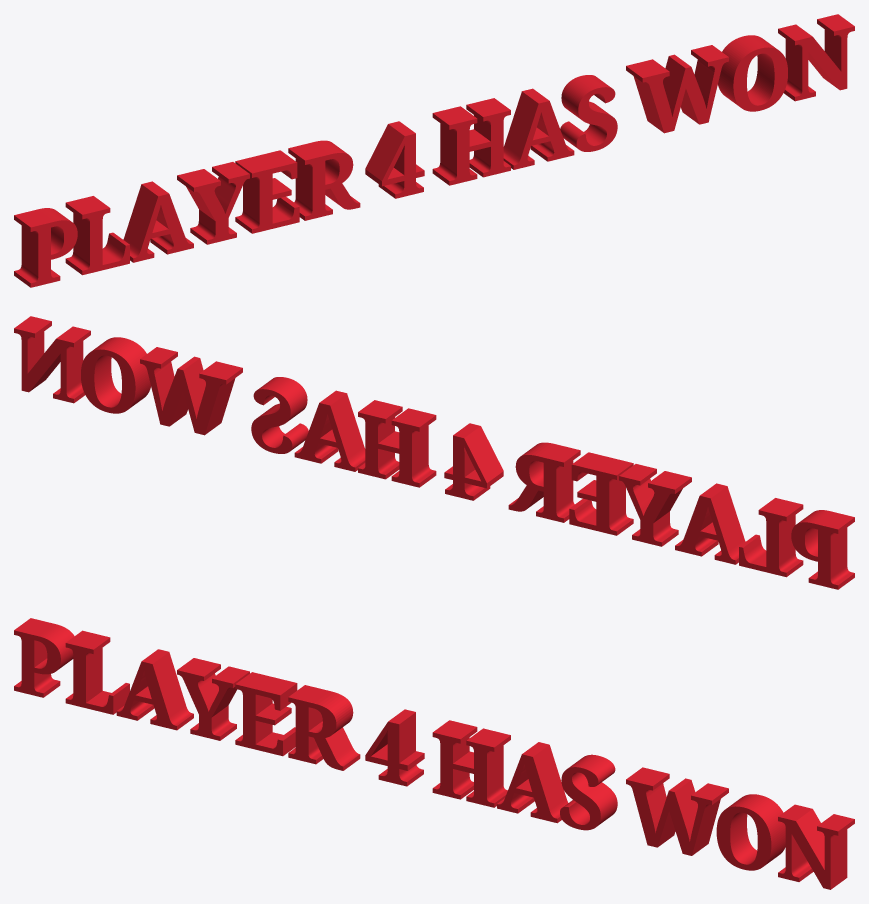
The model's file is tinkerWhite.obj.
3 renders of one model, top to bottom at view 1: azimuth 30°, elevation 25°; view 2: azimuth 150°, elevation 25°; view 3: azimuth 330°, elevation 25°, orthographic.
Visible parts, largest first — view 1: obj_0; view 2: obj_0; view 3: obj_0.
Boxes of the visible parts, bbox=[...] form: obj_0: bbox=[14, 14, 854, 287]; obj_0: bbox=[14, 316, 854, 589]; obj_0: bbox=[14, 618, 854, 889].
Size of the model in its own units: 283 by 20.4 by 10.
